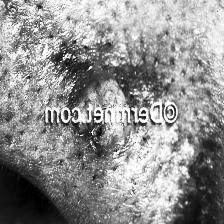Unclassified: (74, 72, 132, 156)
